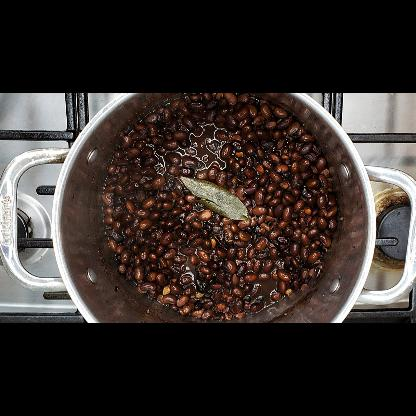black beans: (102, 92, 338, 320)
